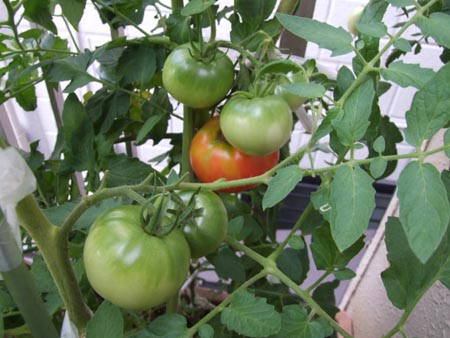tomato: (81, 204, 190, 311), (188, 114, 281, 191), (162, 40, 236, 109), (219, 91, 293, 157), (157, 189, 227, 258)
